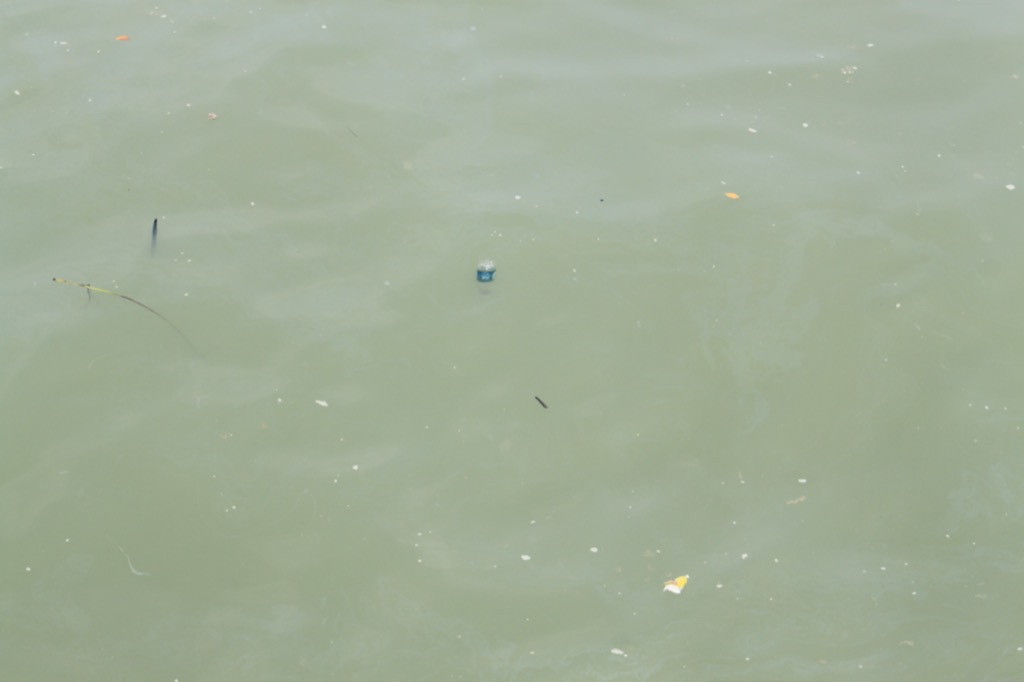organic: (35, 271, 239, 397), (131, 208, 171, 270), (521, 391, 558, 416), (108, 28, 145, 50), (722, 186, 748, 209), (199, 104, 224, 122), (596, 193, 608, 209)
plastic: (462, 243, 515, 311), (653, 567, 698, 600)
